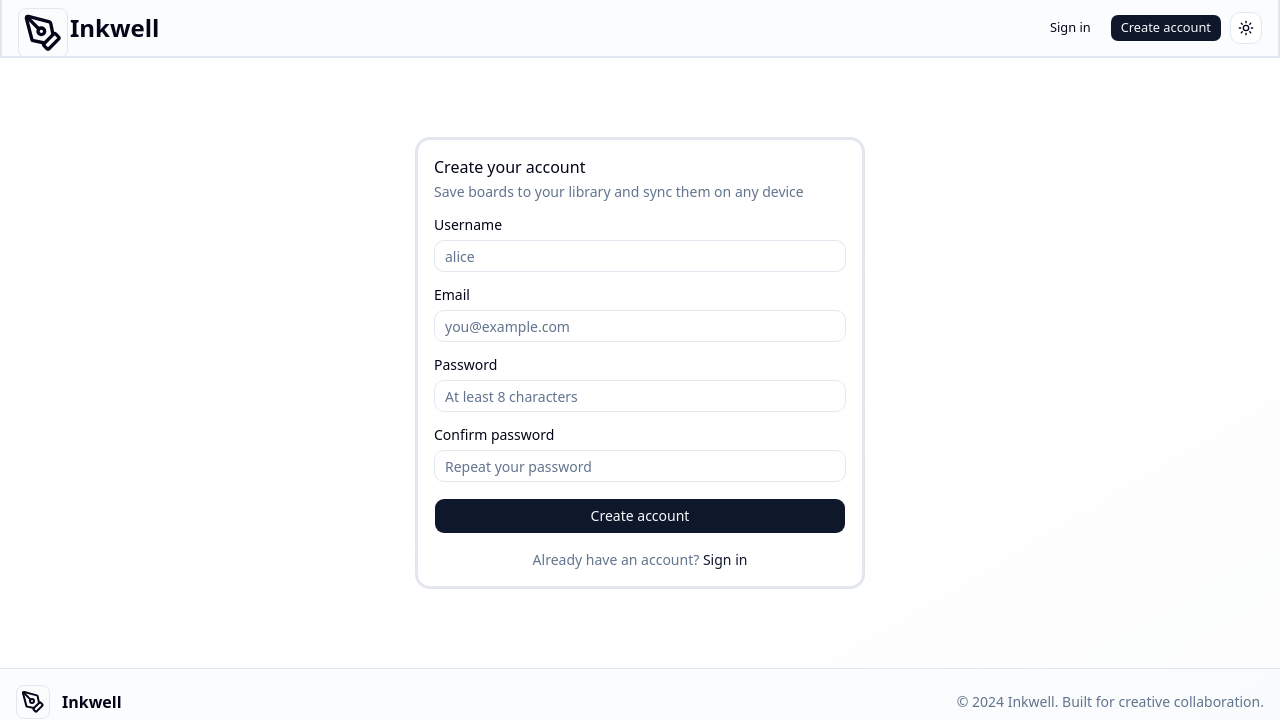
Scenario: Register Page › requires a username
Type "alice@example.com" into the field with id "email" at (640, 326), box top-left (434, 310), bottom-right (846, 342)
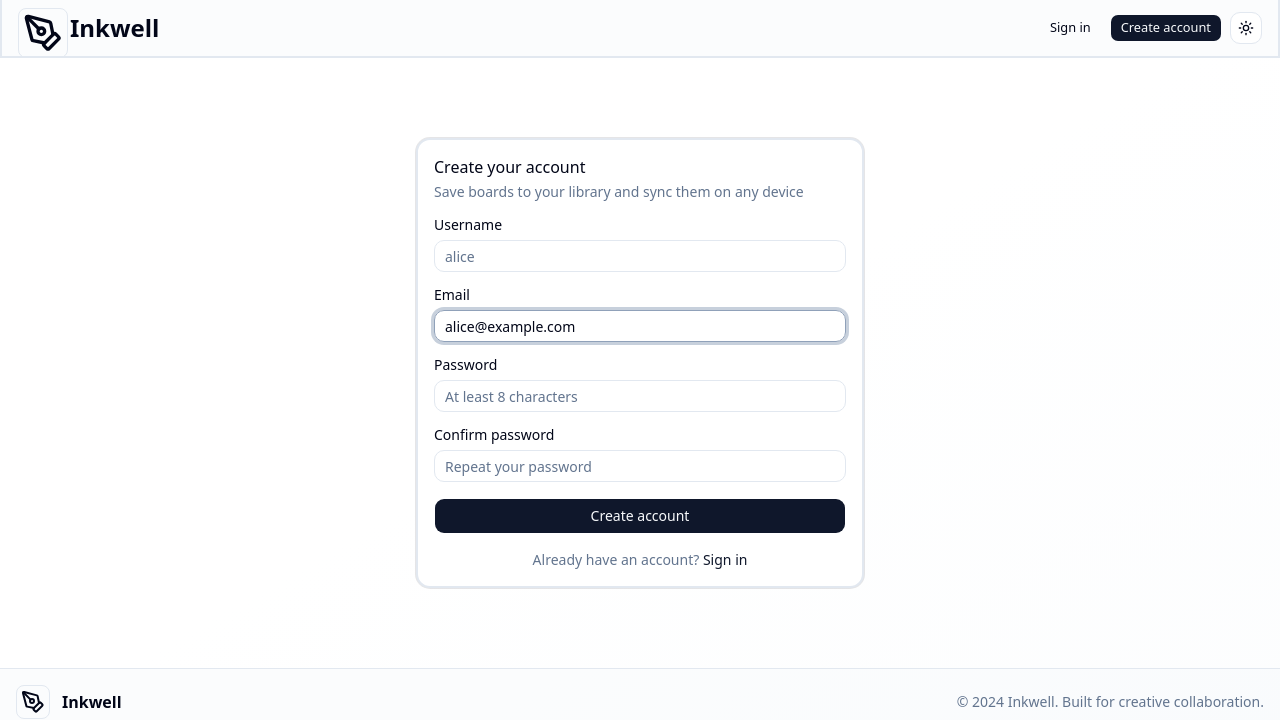
Type "password123" into the password field labelled "Password" at (640, 396), box top-left (434, 380), bottom-right (846, 412)
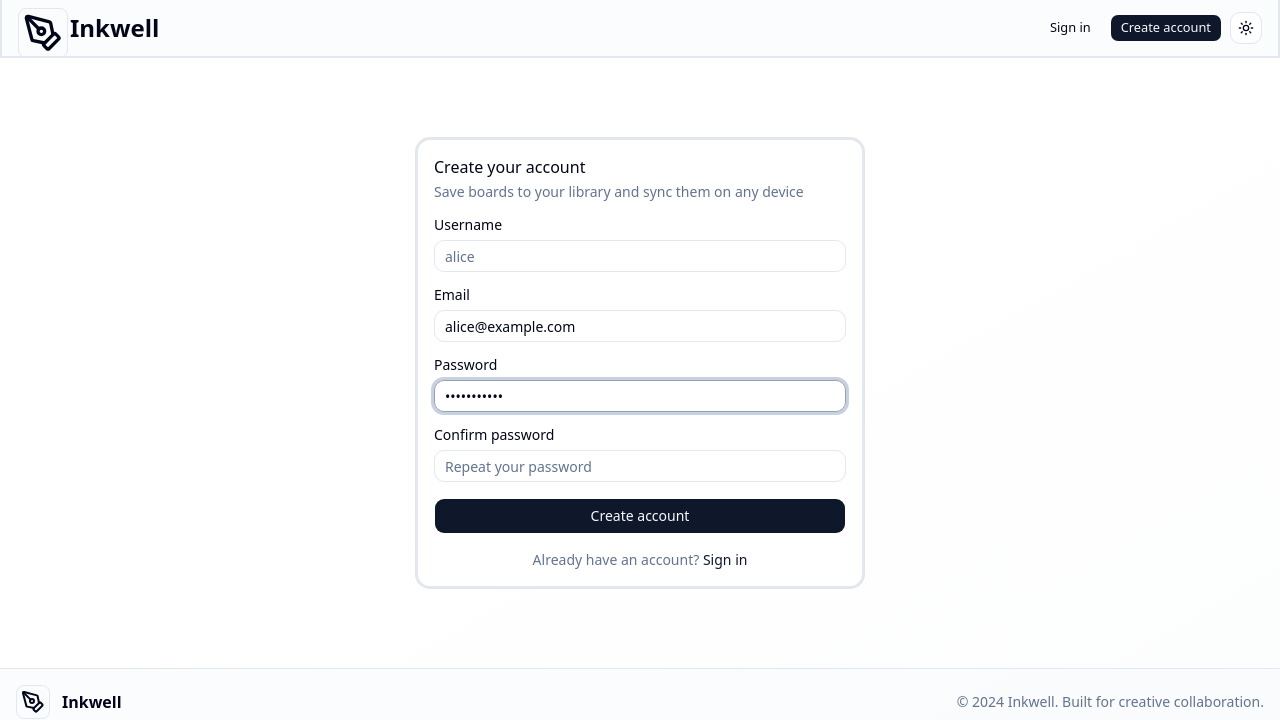
Type "password123" into the password field with id "confirmPassword" at (640, 466), box top-left (434, 450), bottom-right (846, 482)
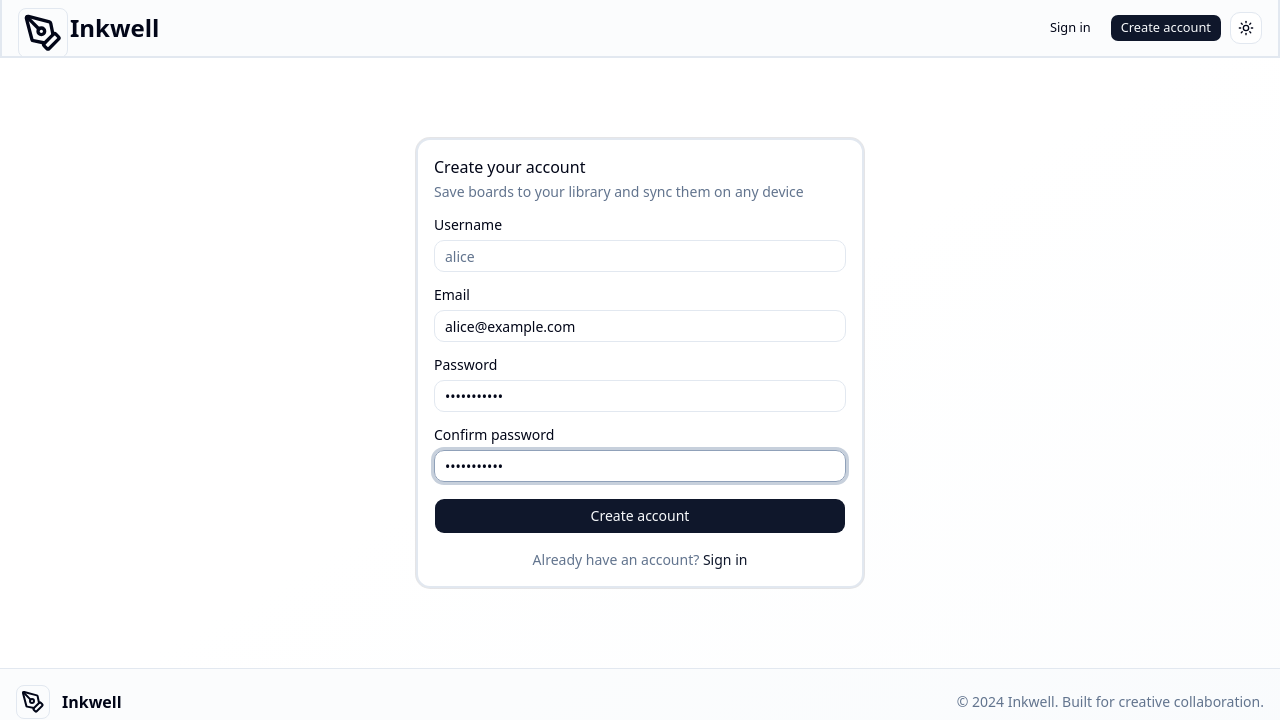
Click the button "Create account" at (640, 516), box top-left (434, 498), bottom-right (846, 534)
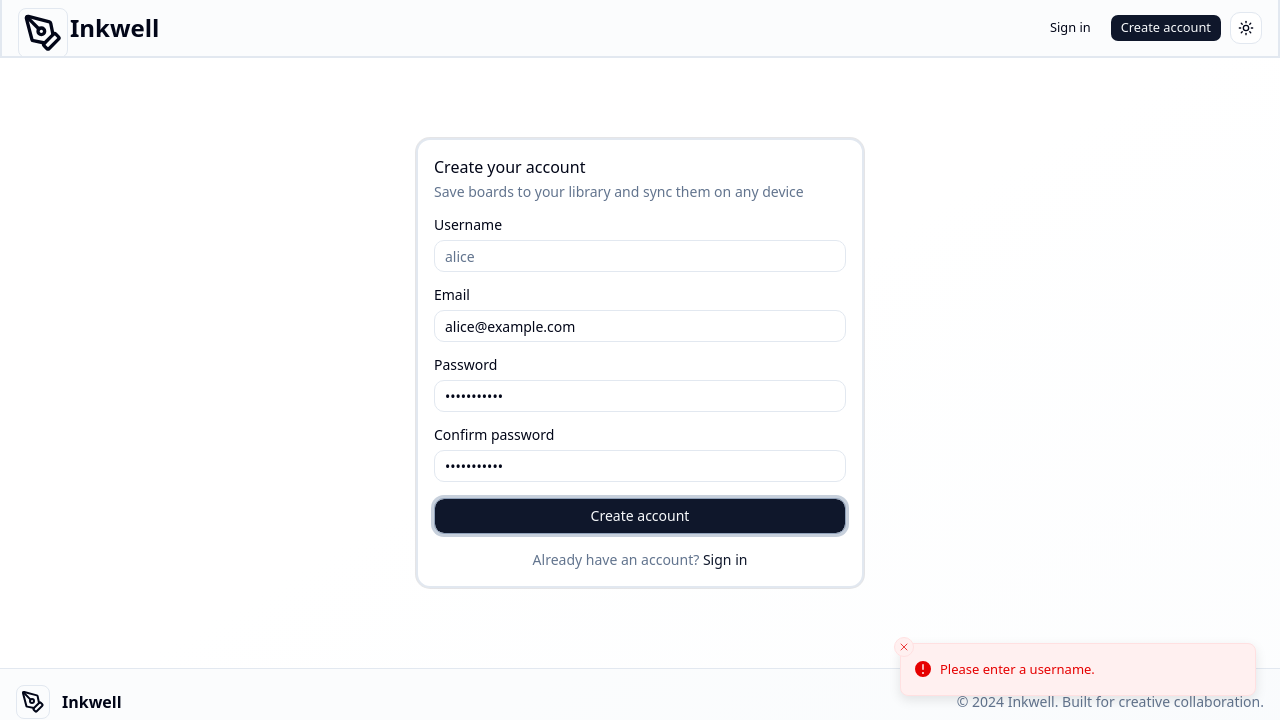
Expected: the text "Please enter a username." is shown, top-left (940, 660), bottom-right (1095, 679)
